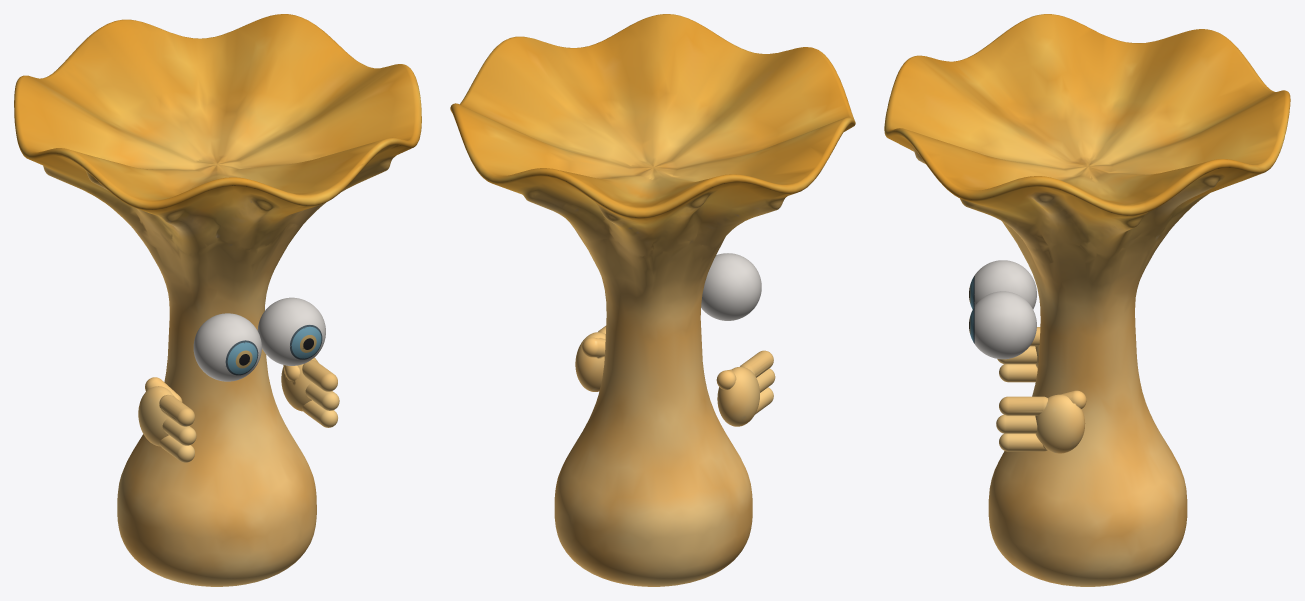
The model's file is chanterelle-scout_512.glb.
3 renders of one model, left to right at view 1: azimuth 30°, elevation 25°; view 2: azimuth 150°, elevation 25°; view 3: azimuth 270°, elevation 25°, orthographic.
Parts seen in each view (by area): view 1: body, eye, hand; view 2: body, hand, eye; view 3: body, hand, eye.
Part boxes in pixels (box(x1,y1,x2,y2)): body: box(14, 14, 421, 586); eye: box(193, 297, 325, 381); hand: box(138, 357, 339, 462); body: box(450, 14, 855, 586); hand: box(575, 325, 775, 426); eye: box(701, 253, 761, 320); body: box(884, 14, 1290, 586); hand: box(996, 327, 1086, 453); eye: box(969, 260, 1036, 359).
Size of the model in its own units: 1.43 by 1.82 by 1.43.
